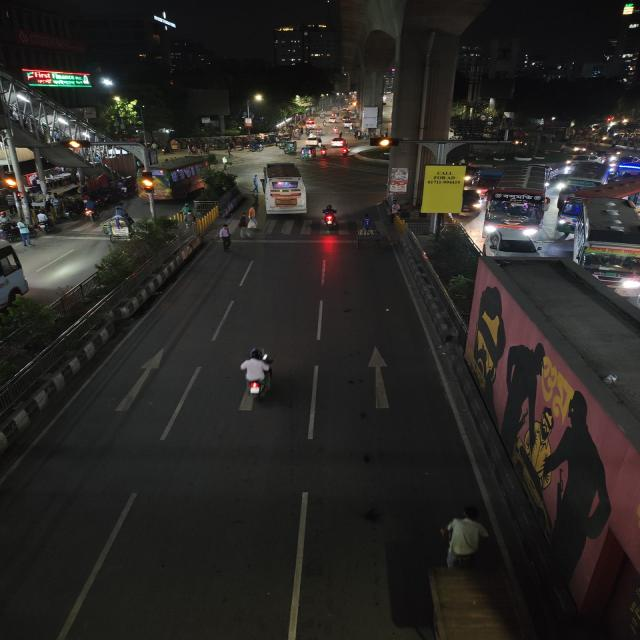bus: (568, 188, 640, 299), (483, 184, 552, 240), (137, 154, 212, 200), (255, 160, 310, 220), (0, 237, 32, 326), (551, 160, 612, 190), (614, 153, 640, 173)
car: (482, 227, 546, 265), (305, 134, 324, 146), (329, 136, 347, 148), (304, 118, 322, 129)
cng: (300, 147, 316, 161)
motorcycle: (229, 344, 281, 405), (319, 202, 342, 235), (80, 196, 100, 222), (315, 144, 329, 159), (338, 144, 352, 158)
pedestrian: (215, 223, 236, 252), (15, 218, 34, 246), (388, 201, 402, 228), (244, 205, 258, 232), (236, 213, 249, 240), (222, 156, 234, 172), (252, 174, 260, 193), (352, 128, 362, 141)
rickshaw: (101, 211, 137, 243), (351, 219, 385, 252), (282, 138, 297, 154)
